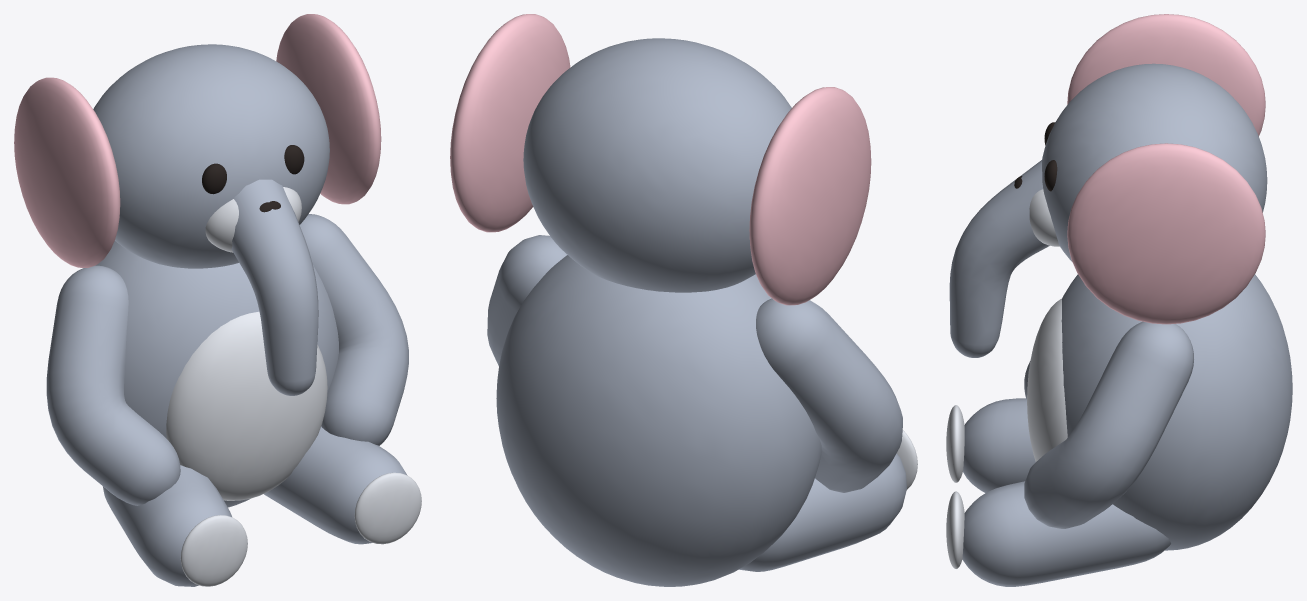
The model's file is deco_elefante.glb.
3 renders of one model, left to right at view 1: azimuth 30°, elevation 25°; view 2: azimuth 150°, elevation 25°; view 3: azimuth 270°, elevation 25°, orthographic. The views are drawn at different scales.
Parts seen in each view (by area): view 1: cabeza elefante.001, barriga elefante.001, brazo.032, panza elefante.001, oreja elefante -1.001, brazo.033, trompa.001, oreja elefante 1.001, pierna.031, pierna.030, planta pata.030, planta pata.031 (+2 smaller); view 2: panza elefante.001, cabeza elefante.001, oreja elefante -1.001, brazo.032, oreja elefante 1.001, pierna.030, brazo.033, planta pata.030; view 3: panza elefante.001, oreja elefante 1.001, cabeza elefante.001, brazo.033, pierna.031, trompa.001, oreja elefante -1.001, pierna.030, barriga elefante.001, planta pata.030, planta pata.031, hocico.015.
Part boxes in pixels (x1,y1,x2,y2): cabeza elefante.001: (93,44,329,268); barriga elefante.001: (166,311,327,500); brazo.032: (46,265,180,505); panza elefante.001: (95,241,338,507); oreja elefante -1.001: (14,77,120,267); brazo.033: (299,214,408,445); trompa.001: (231,179,318,395); oreja elefante 1.001: (276,14,381,204); pierna.031: (264,426,407,544); pierna.030: (103,465,231,586); planta pata.030: (180,515,247,586); planta pata.031: (354,472,421,544); panza elefante.001: (496,255,821,586); cabeza elefante.001: (523,38,791,292); oreja elefante -1.001: (749,87,871,305); brazo.032: (756,298,902,492); oreja elefante 1.001: (450,14,570,232); pierna.030: (739,453,906,571); brazo.033: (487,235,567,365); planta pata.030: (897,430,917,489); panza elefante.001: (1061,274,1292,550); oreja elefante 1.001: (1067,143,1265,324); cabeza elefante.001: (1042,63,1267,261); brazo.033: (1024,321,1193,528); pierna.031: (962,481,1170,586); trompa.001: (949,160,1049,357); oreja elefante -1.001: (1067,14,1265,136); pierna.030: (963,398,1035,492); barriga elefante.001: (1027,298,1067,461); planta pata.030: (946,405,964,482); planta pata.031: (946,491,964,568); hocico.015: (1029,189,1059,246).
Bounding box in the file's own units: 0.3188 × 0.399 × 0.2716.
